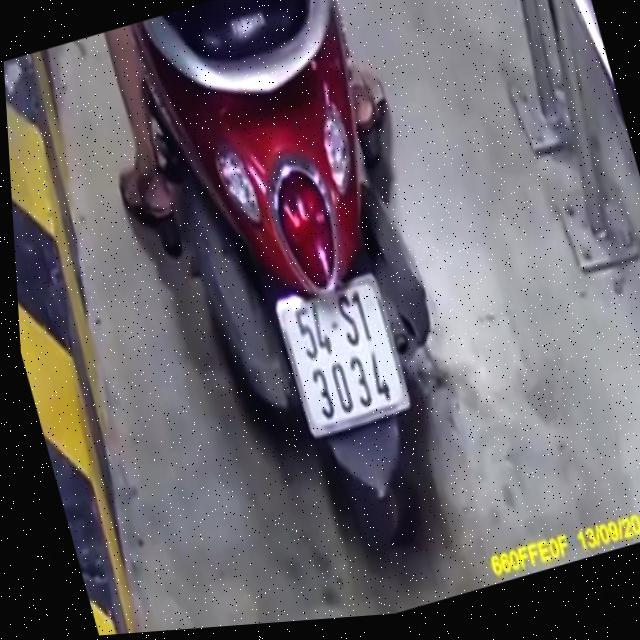motorcycle: (105, 0, 513, 622)
plate: (263, 264, 424, 448)
